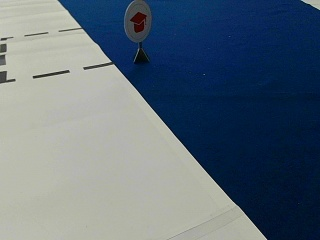school: (123, 2, 152, 41)
